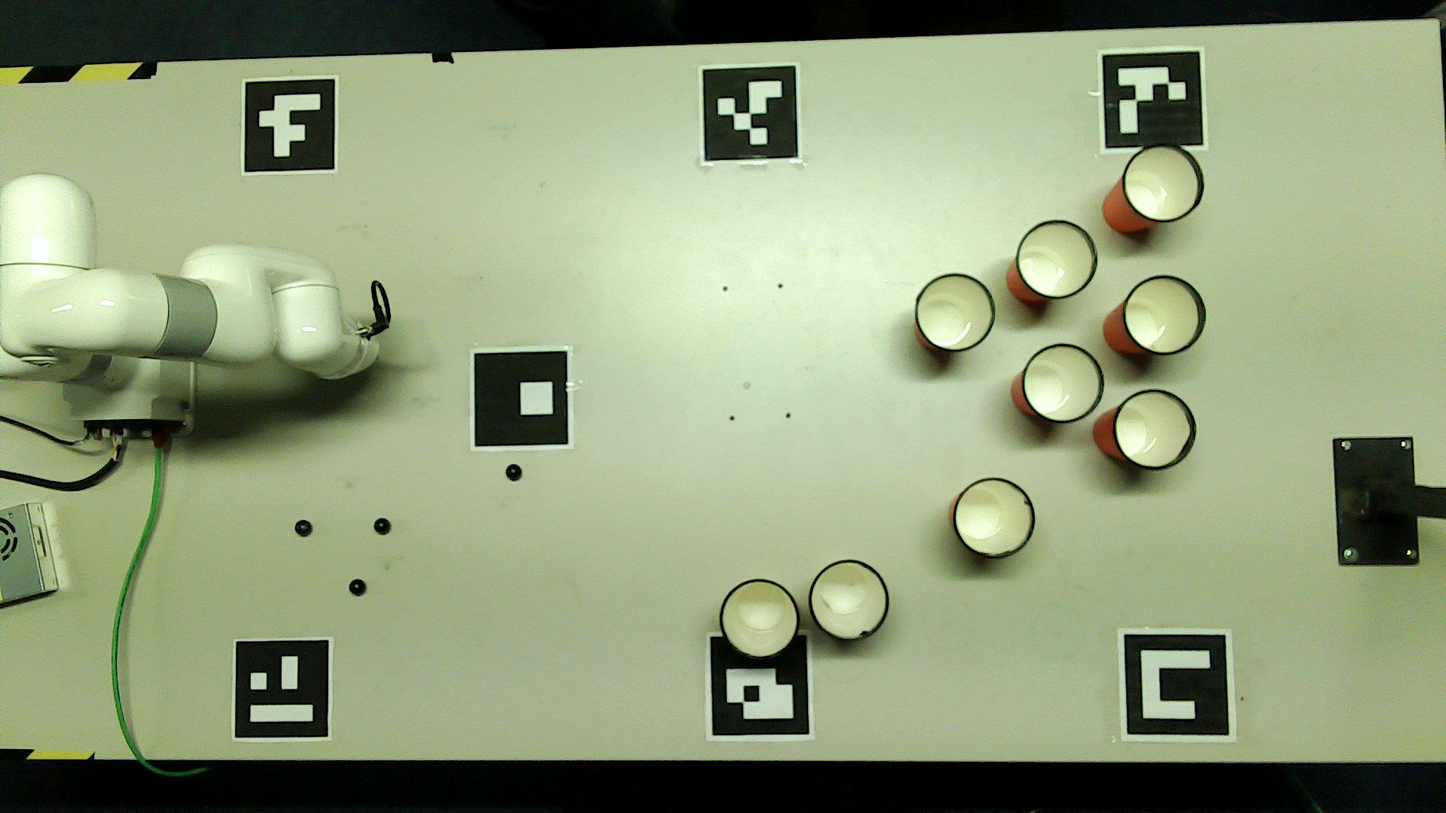ball: (295, 521, 312, 536), (350, 580, 366, 595), (375, 518, 390, 534), (506, 465, 520, 480)
cup: (809, 560, 887, 640), (954, 479, 1033, 557), (721, 580, 799, 658), (1116, 391, 1194, 468), (1025, 345, 1101, 421), (1018, 222, 1095, 297), (917, 275, 992, 350), (1127, 278, 1201, 353), (1125, 146, 1199, 220)
